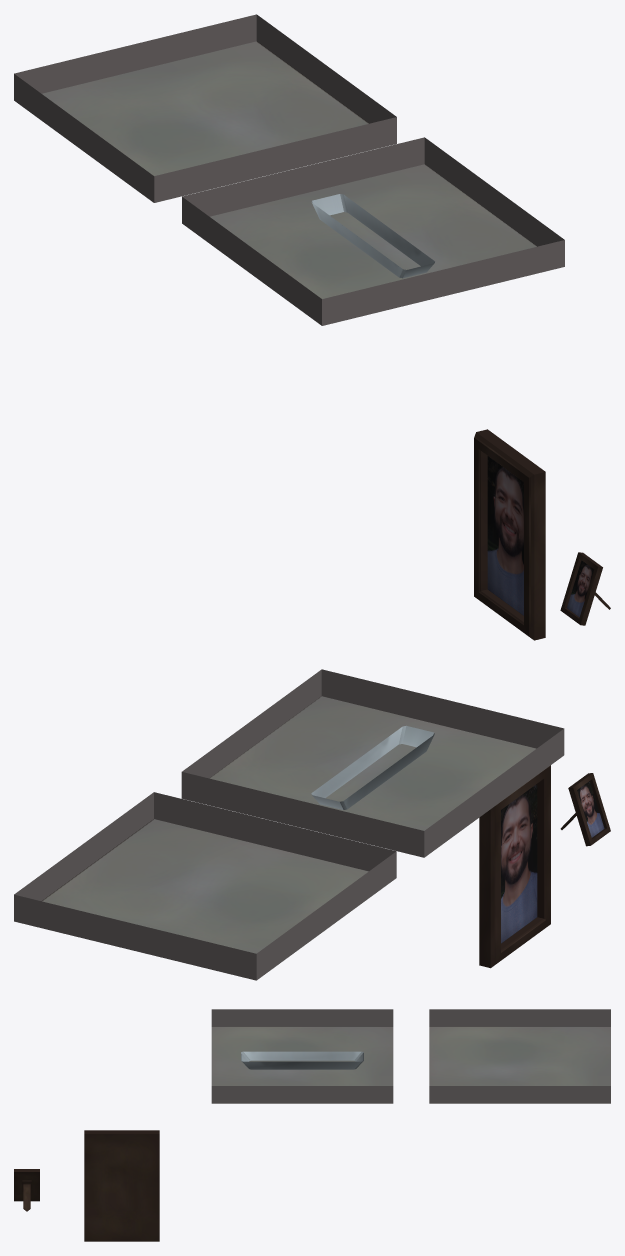
The model's file is EscapeRoom2.fbx.
3 views of the same model, one above another, from view 1: azimuth 30°, elevation 25°; view 2: azimuth 150°, elevation 25°; view 3: azimuth 270°, elevation 25° (orthographic). The views are drawn at different scales.
Parts seen in each view (by area): view 1: Cube, Cube.001, Cube.002, Cube.003; view 2: Cube.001, Cube, Cube.002, Cube.003; view 3: Cube.001, Cube, Cube.002, Cube.003.
Boxes of the visible parts, left/top/right/bottom form: Cube: left=14, top=14, right=396, bottom=202; Cube.001: left=182, top=137, right=564, bottom=325; Cube.002: left=474, top=429, right=545, bottom=640; Cube.003: left=560, top=552, right=610, bottom=625; Cube.001: left=181, top=669, right=564, bottom=857; Cube: left=14, top=792, right=396, bottom=980; Cube.002: left=479, top=765, right=550, bottom=968; Cube.003: left=560, top=773, right=610, bottom=846; Cube.001: left=211, top=1009, right=393, bottom=1103; Cube: left=429, top=1009, right=610, bottom=1103; Cube.002: left=84, top=1130, right=159, bottom=1241; Cube.003: left=14, top=1169, right=39, bottom=1211.
Size of the model in its own units: 304 by 356 by 999.
